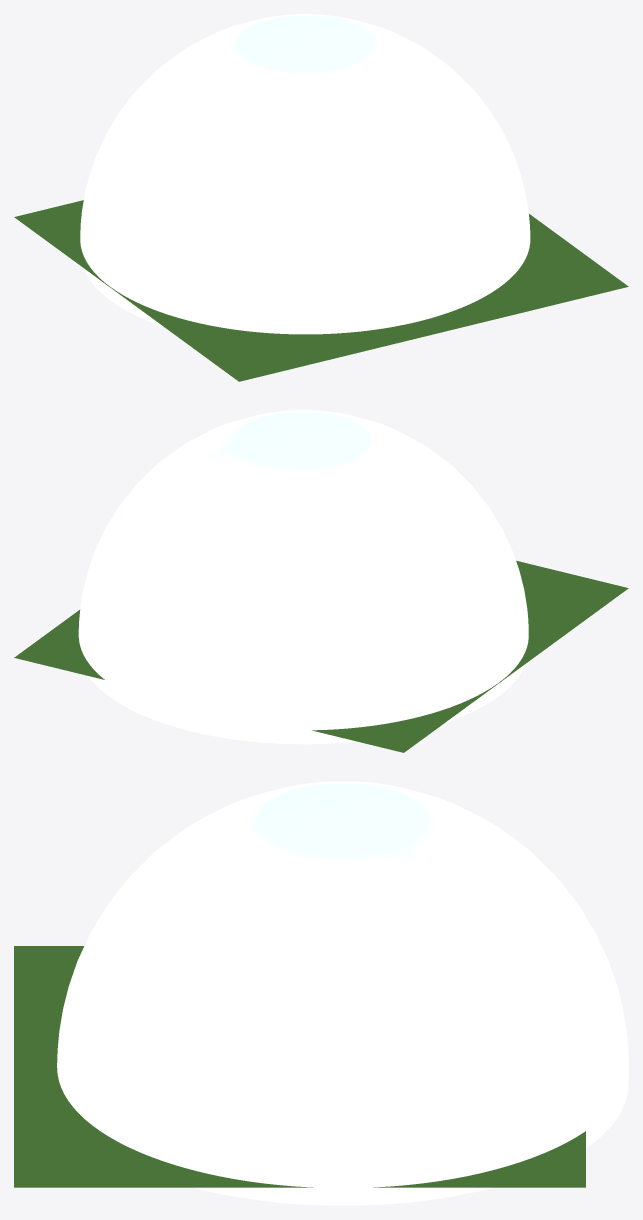
The model's file is sellaronda.glb.
The picture shows the model from 3 angles, top to bottom: view 1: azimuth 30°, elevation 25°; view 2: azimuth 150°, elevation 25°; view 3: azimuth 270°, elevation 25°; orthographic projection. The views are drawn at different scales.
Visible parts, largest first — view 1: Sky_000, Land_000; view 2: Sky_000, Land_000; view 3: Sky_000, Land_000.
Part boxes in pixels (x1,y1,x2,y2): Sky_000: [80, 14, 530, 334]; Land_000: [14, 200, 628, 381]; Sky_000: [78, 410, 528, 744]; Land_000: [14, 560, 628, 752]; Sky_000: [57, 781, 628, 1205]; Land_000: [14, 946, 585, 1187].
Size of what is drawn, in the model's own units: 17033 by 9093 by 18280.
